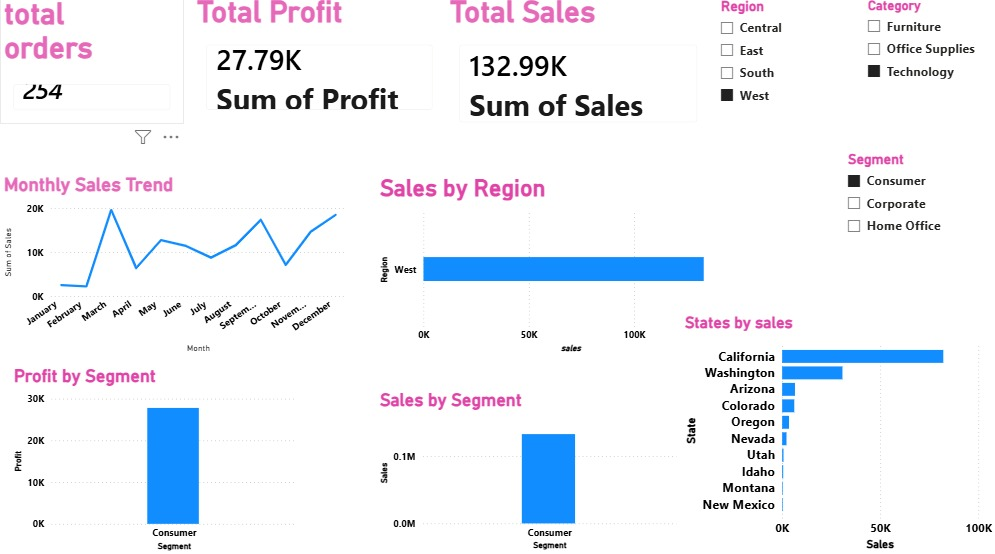

The dashboard page shown, as its layout file describes it:
{"tool":"powerbi","page":{"name":"Page 5","canvas":[1280,720],"ordinal":4},"visuals":[{"type":"cardVisual","title":"Total  Profit","fields":{"Data":["Sum(cleaned_superstore.Profit)"]},"box":[248.1,0,325.1,166.5],"z":0},{"type":"cardVisual","title":"Total Sales","fields":{"Data":["Sum(cleaned_superstore.Sales)"]},"box":[573.3,0,340.8,182.2],"z":1000},{"type":"lineChart","title":" Monthly Sales Trend","fields":{"Y":["Sum(cleaned_superstore.Sales)"],"Category":["cleaned_superstore.Month"]},"box":[0,230.9,449.2,234],"z":2000},{"type":"clusteredBarChart","title":" Sales by Region","fields":{"Category":["cleaned_superstore.Region"],"Y":["Sum(cleaned_superstore.Sales)"]},"box":[483.7,230.9,460.2,234],"z":3000},{"type":"clusteredColumnChart","title":" Profit by Segment","fields":{"Category":["cleaned_superstore.Segment"],"Y":["Sum(cleaned_superstore.Profit)"]},"box":[12.6,477.4,373.8,241.9],"z":4000},{"type":"clusteredColumnChart","title":" Sales by Segment","fields":{"Category":["cleaned_superstore.Segment"],"Y":["Sum(cleaned_superstore.Sales)"]},"box":[483.7,508.9,391.1,210.5],"z":5000},{"type":"clusteredBarChart","title":"States by sales","fields":{"Category":["cleaned_superstore.State"],"Y":["Sum(cleaned_superstore.Sales)"]},"box":[874.8,409.9,405.2,309.4],"z":6000},{"type":"slicer","fields":{"Values":["cleaned_superstore.Region"]},"box":[914.1,0,146.1,152.3],"z":7000},{"type":"slicer","fields":{"Values":["cleaned_superstore.Category"]},"box":[1102.5,0,157.1,127.2],"z":8000},{"type":"slicer","fields":{"Values":["cleaned_superstore.Segment"]},"box":[1077.4,196.3,147.6,133.5],"z":9000},{"type":"cardVisual","title":"total orders","fields":{"Data":["Count(cleaned_superstore.Order ID)"]},"box":[0,2.6,236.5,164.5],"z":10000}]}

Visuals, with their boxes in screenshot pixels (x1, y1, x2, y2), scaled from the page's 1280x720 canvas onto the 995x554 screenshot:
"Total  Profit" cardVisual: box=[193, 0, 446, 128]
"Total Sales" cardVisual: box=[446, 0, 711, 140]
" Monthly Sales Trend" lineChart: box=[0, 178, 349, 358]
" Sales by Region" clusteredBarChart: box=[376, 178, 734, 358]
" Profit by Segment" clusteredColumnChart: box=[10, 367, 300, 553]
" Sales by Segment" clusteredColumnChart: box=[376, 392, 680, 553]
"States by sales" clusteredBarChart: box=[680, 315, 994, 553]
slicer - cleaned_superstore.Region: box=[711, 0, 824, 117]
slicer - cleaned_superstore.Category: box=[857, 0, 979, 98]
slicer - cleaned_superstore.Segment: box=[838, 151, 952, 254]
"total orders" cardVisual: box=[0, 2, 184, 129]
